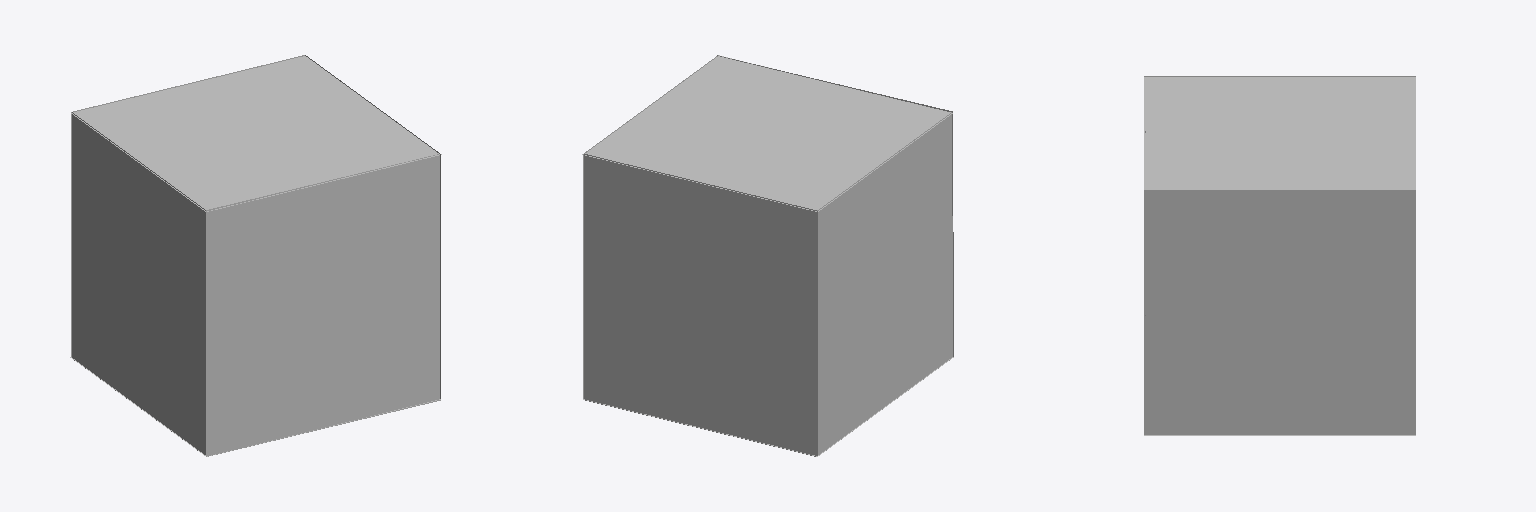
File: skybox.obj
3 views of the same model, side by side, from view 1: azimuth 30°, elevation 25°; view 2: azimuth 150°, elevation 25°; view 3: azimuth 270°, elevation 25° (orthographic).
Parts seen in each view (by area): view 1: pPlane7; view 2: pPlane7; view 3: pPlane7.
Part boxes in pixels (x1,y1,x2,y2): pPlane7: (70,55,441,456); pPlane7: (582,55,953,456); pPlane7: (1144,76,1415,435).
Size of the model in its own units: 24.1 by 24.1 by 24.